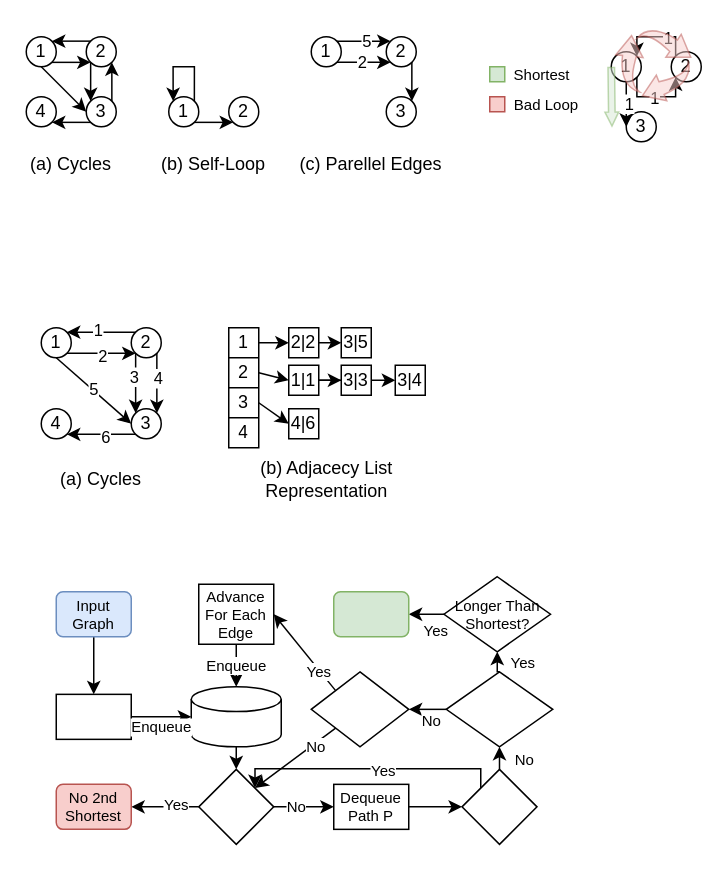
Image size: 728x872. Some labels were removed from this diagram. The shapes that lost their labels are listed below. From the top down, each one's centre as x and y in pixels, then its label:
pixel 370 613: 2nd Shortest
pixel 93 716: Init Path (1st Vertex)
pixel 235 716: PathPQ
pixel 359 708: Has Outgoing Edge?
pixel 499 708: Is P Complete?
pixel 235 806: isEmpty
pixel 498 806: Is P Bad?
